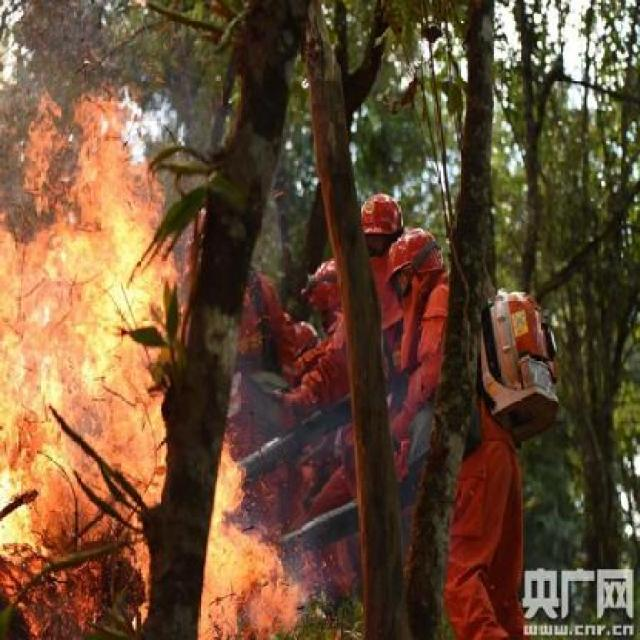Fire: (2, 81, 290, 640)
